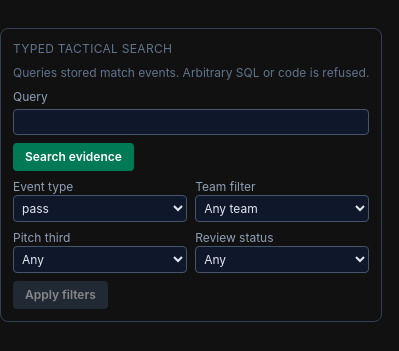
Scenario: posts a typed query to the loaded match and refuses client event rows
Expected: the button "Apply filters" is disabled, [13,281,108,309]
Type "SELECT * FROM events" into the field labelled "Query". click: (191,122)
box: [13,109,369,135]
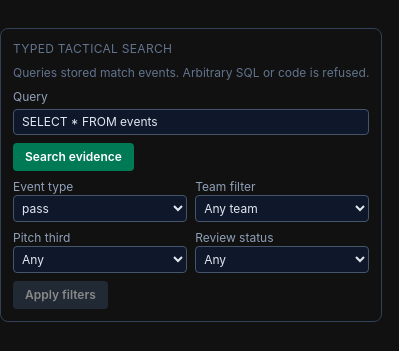
Click the button "Search evidence". click: (73,157)
box: [13,143,134,171]
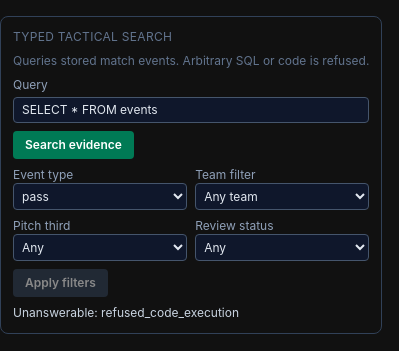
Result: the text "Unanswerable: refused_code_execution" is shown at [13,305,239,320]
